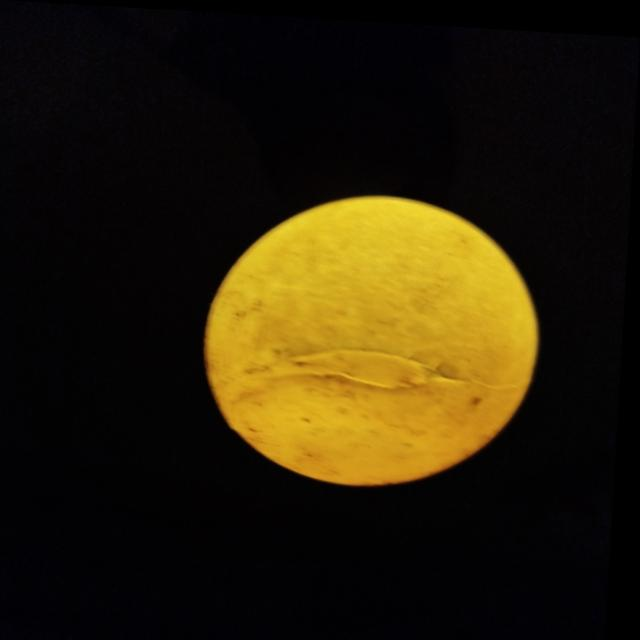Rachadura: (215, 339, 534, 423)
